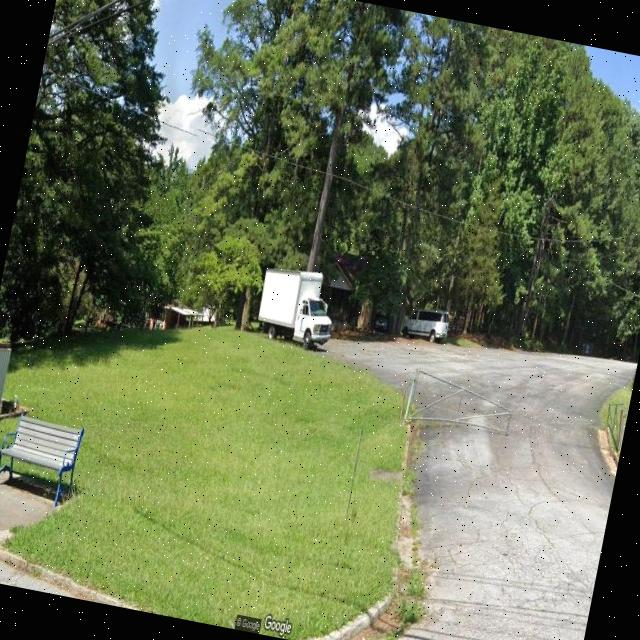seating: (0, 411, 85, 511)
